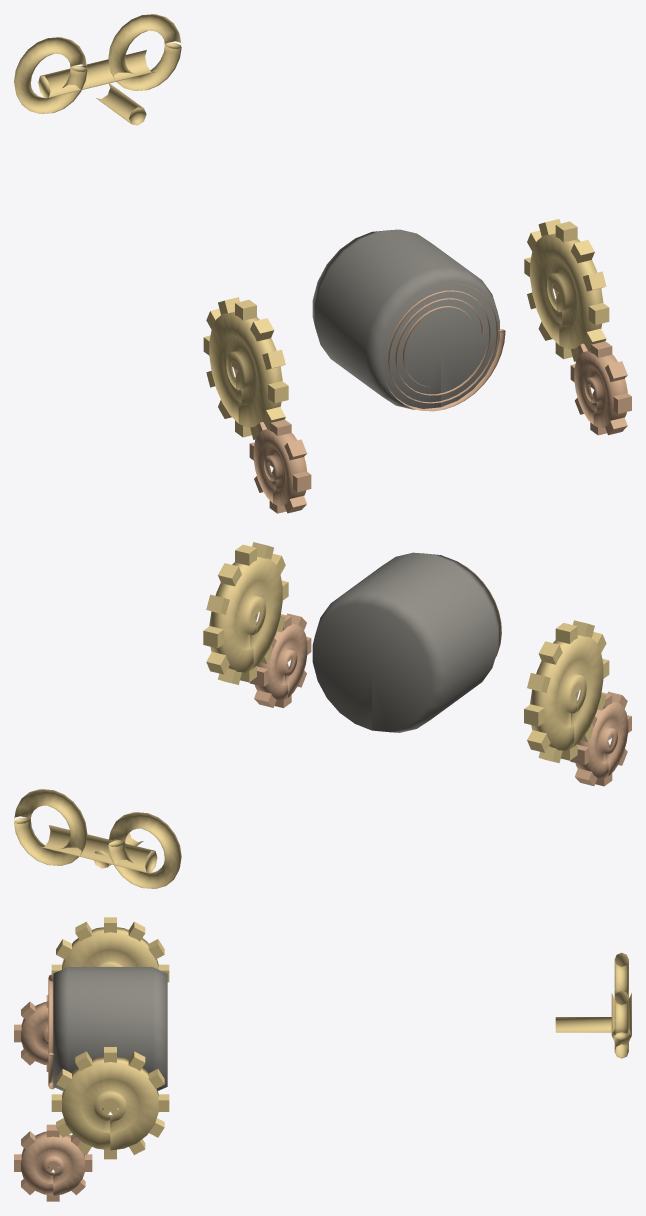
Rendered from car_tray_melody.glb.
3 views of the same model, one above another, from view 1: azimuth 30°, elevation 25°; view 2: azimuth 150°, elevation 25°; view 3: azimuth 270°, elevation 25° (orthographic). The views are drawn at different scales.
Visible parts, largest first — view 1: Car_Spring_Drum, Car_Key_Loops, Car_Gear_Main_1, Car_Gear_Main_-1, Car_Gear_Driven_-1, Car_Gear_Driven_1, Car_Visible_Spring; view 2: Car_Spring_Drum, Car_Gear_Main_-1, Car_Gear_Main_1, Car_Key_Loops, Car_Gear_Driven_-1, Car_Gear_Driven_1; view 3: Car_Spring_Drum, Car_Gear_Main_1, Car_Gear_Driven_1, Car_Gear_Main_-1, Car_Key_Loops, Car_Gear_Driven_-1, Car_Visible_Spring.
Boxes of the visible parts, <box> form: Car_Spring_Drum: <box>312,229,499,409</box>; Car_Key_Loops: <box>14,14,181,125</box>; Car_Gear_Main_1: <box>524,219,609,361</box>; Car_Gear_Main_-1: <box>203,297,288,439</box>; Car_Gear_Driven_-1: <box>249,419,311,513</box>; Car_Gear_Driven_1: <box>570,341,631,435</box>; Car_Visible_Spring: <box>386,283,505,411</box>; Car_Spring_Drum: <box>312,552,499,732</box>; Car_Gear_Main_-1: <box>524,620,609,763</box>; Car_Gear_Main_1: <box>203,542,288,684</box>; Car_Key_Loops: <box>14,789,181,888</box>; Car_Gear_Driven_-1: <box>570,691,631,786</box>; Car_Gear_Driven_1: <box>249,613,311,707</box>; Car_Spring_Drum: <box>53,967,167,1090</box>; Car_Gear_Main_1: <box>51,1047,169,1159</box>; Car_Gear_Driven_1: <box>14,1124,92,1201</box>; Car_Gear_Main_-1: <box>51,917,169,982</box>; Car_Key_Loops: <box>555,952,631,1058</box>; Car_Gear_Driven_-1: <box>14,995,48,1071</box>; Car_Visible_Spring: <box>48,974,54,1089</box>.
Size of the model in its own units: 0.2278 by 0.1244 by 0.4314.
